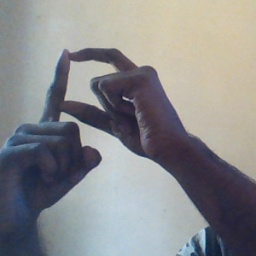D: (28, 41, 152, 167)
